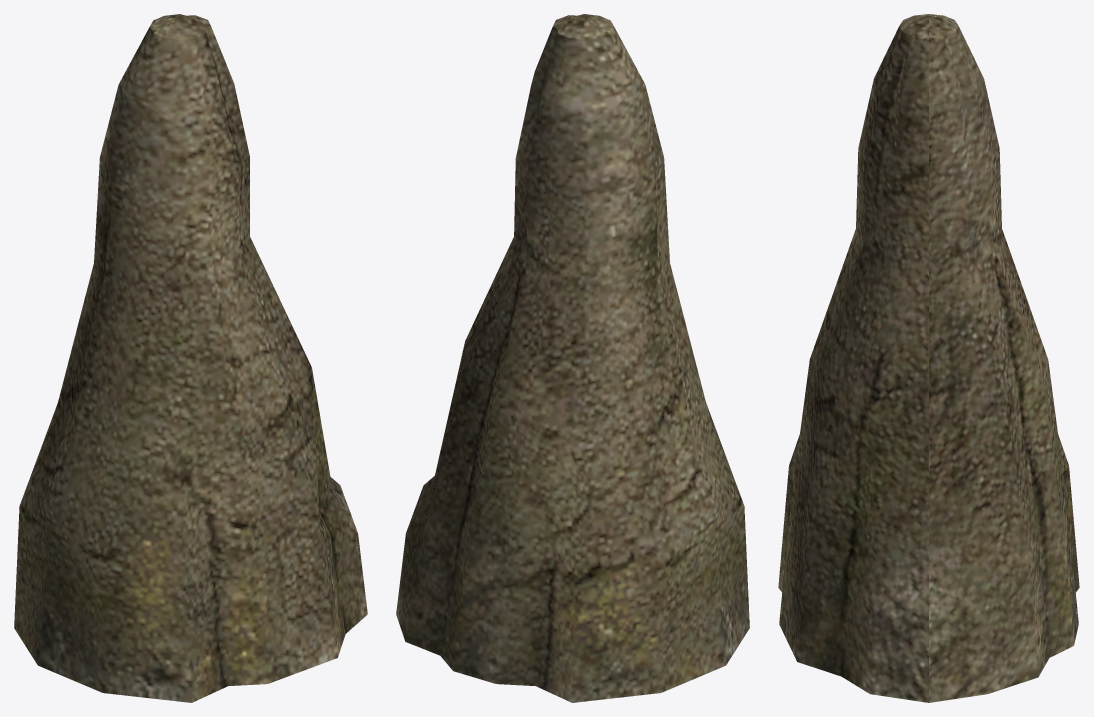
The model's file is anthill_03.glb.
3 renders of one model, left to right at view 1: azimuth 30°, elevation 25°; view 2: azimuth 150°, elevation 25°; view 3: azimuth 270°, elevation 25°, orthographic. The views are drawn at different scales.
Parts seen in each view (by area): view 1: objanthill_03; view 2: objanthill_03; view 3: objanthill_03.
Boxes of the visible parts, box(x1,y1,x2,y2) form: objanthill_03: box(14, 14, 367, 702); objanthill_03: box(396, 14, 749, 702); objanthill_03: box(778, 14, 1079, 702).
Size of the model in its own units: 2.9 by 5.34 by 2.42.
1 material, 1 textured.
